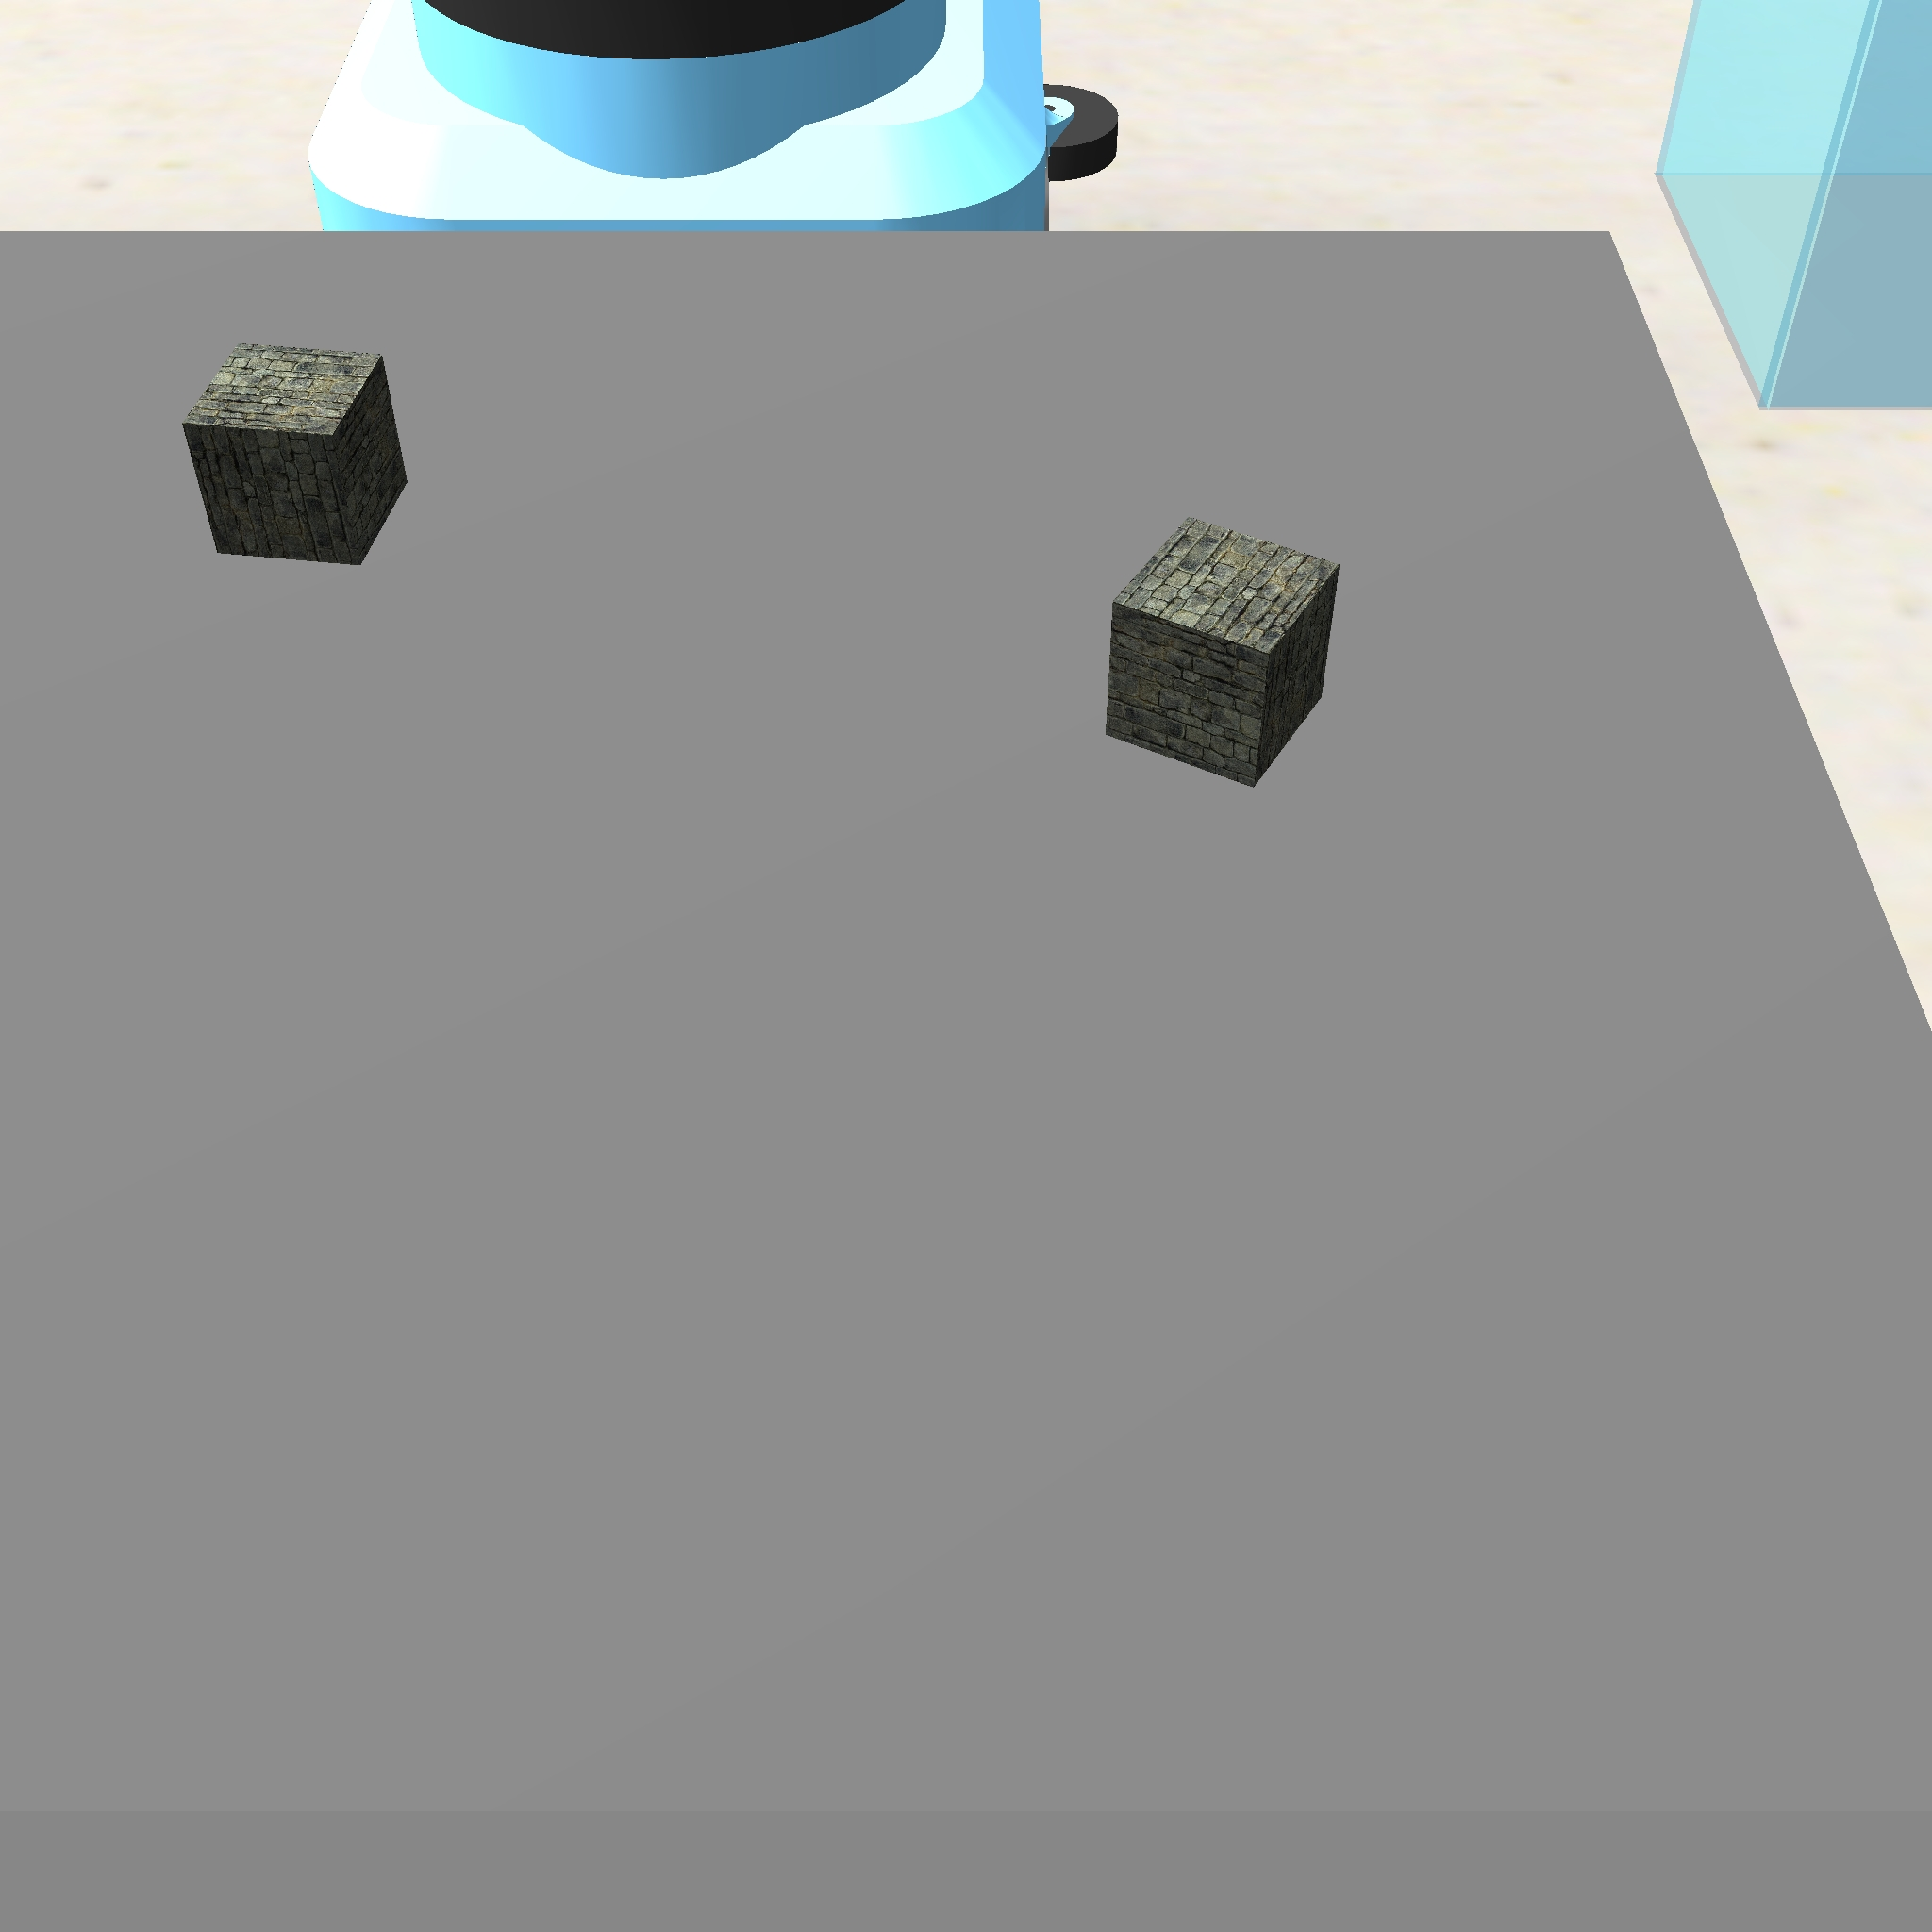cube: (1099, 511, 1345, 791), (173, 334, 419, 584)
